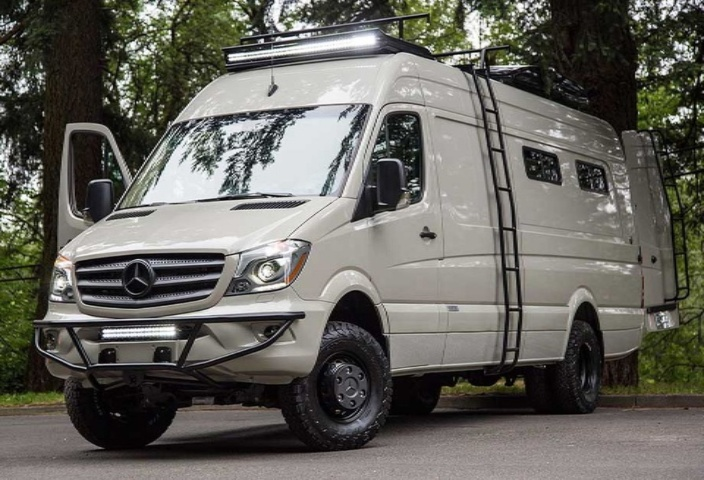van: (21, 10, 699, 460)
